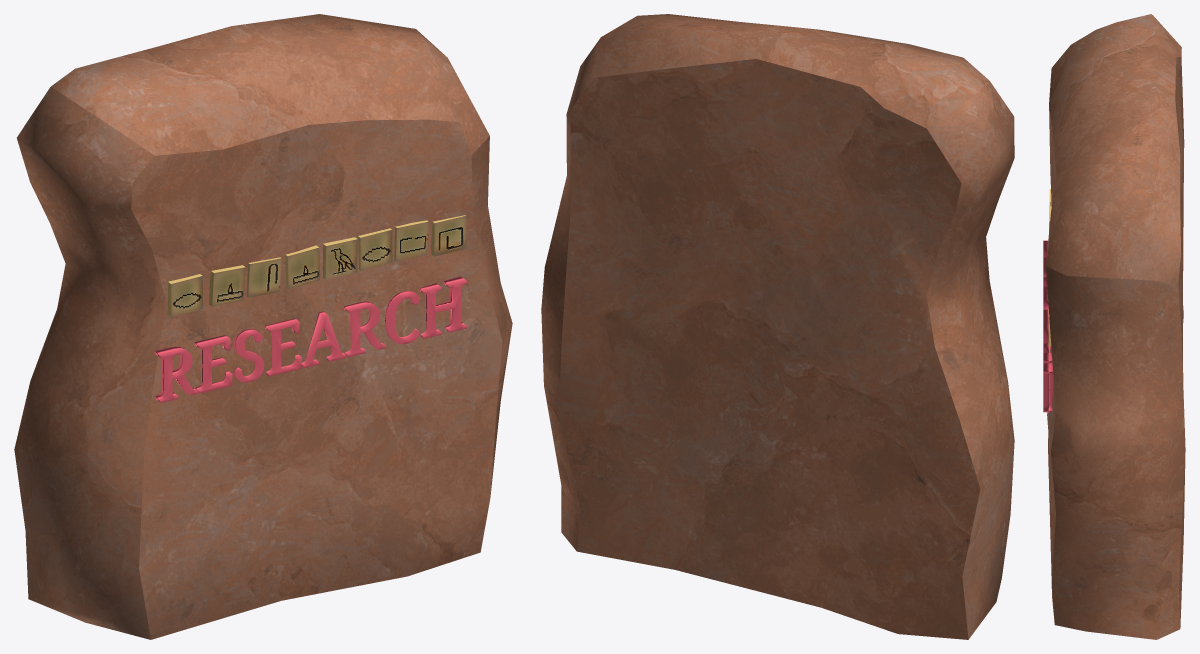
File: monolite_ricerca.fbx
The picture shows the model from 3 angles, left to right: view 1: azimuth 30°, elevation 25°; view 2: azimuth 150°, elevation 25°; view 3: azimuth 270°, elevation 25°; orthographic projection. The views are drawn at different scales.
Parts seen in each view (by area): view 1: prim9, prim8, prim1, prim4, prim0, prim3, prim7, prim5, prim6, prim2; view 2: prim9; view 3: prim9, prim8.
Part boxes in pixels (box(x1,y1,x2,y2)): prim9: box(14, 14, 512, 639); prim8: box(154, 276, 466, 402); prim1: box(209, 265, 245, 306); prim4: box(322, 237, 357, 279); prim0: box(168, 274, 203, 317); prim3: box(285, 245, 320, 289); prim7: box(431, 215, 466, 256); prim5: box(358, 228, 392, 270); prim6: box(394, 220, 428, 261); prim2: box(247, 257, 281, 297); prim9: box(541, 14, 1014, 639); prim9: box(1046, 14, 1185, 639); prim8: box(1043, 240, 1053, 412).
Bounding box in the file's own units: 145 × 168 × 45.81.
9 materials, 7 textured.
